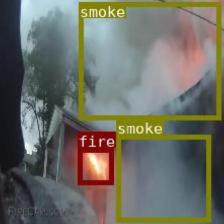fire: (77, 147, 113, 184)
smoke: (78, 1, 220, 119), (116, 134, 210, 221)
